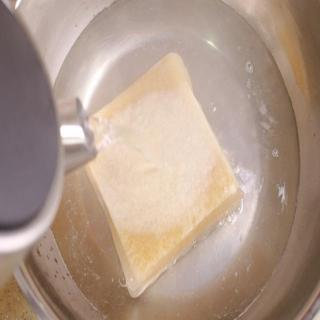Tahu: (54, 54, 267, 298)
